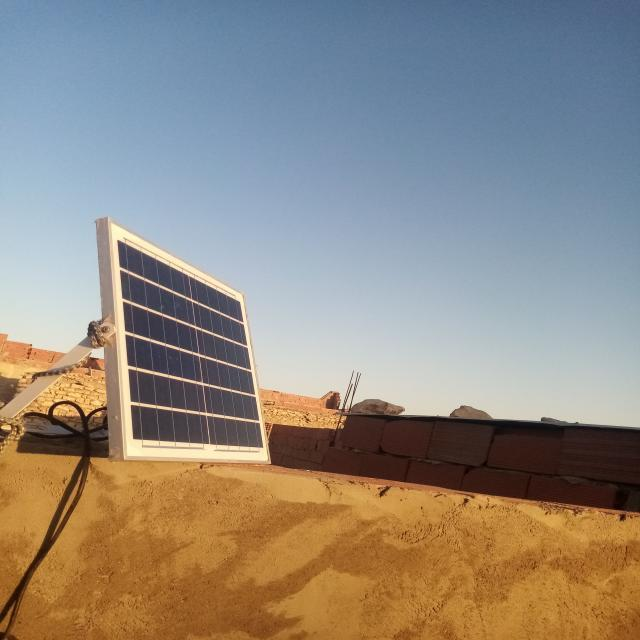Normal Solar Panel: (107, 220, 272, 462)
